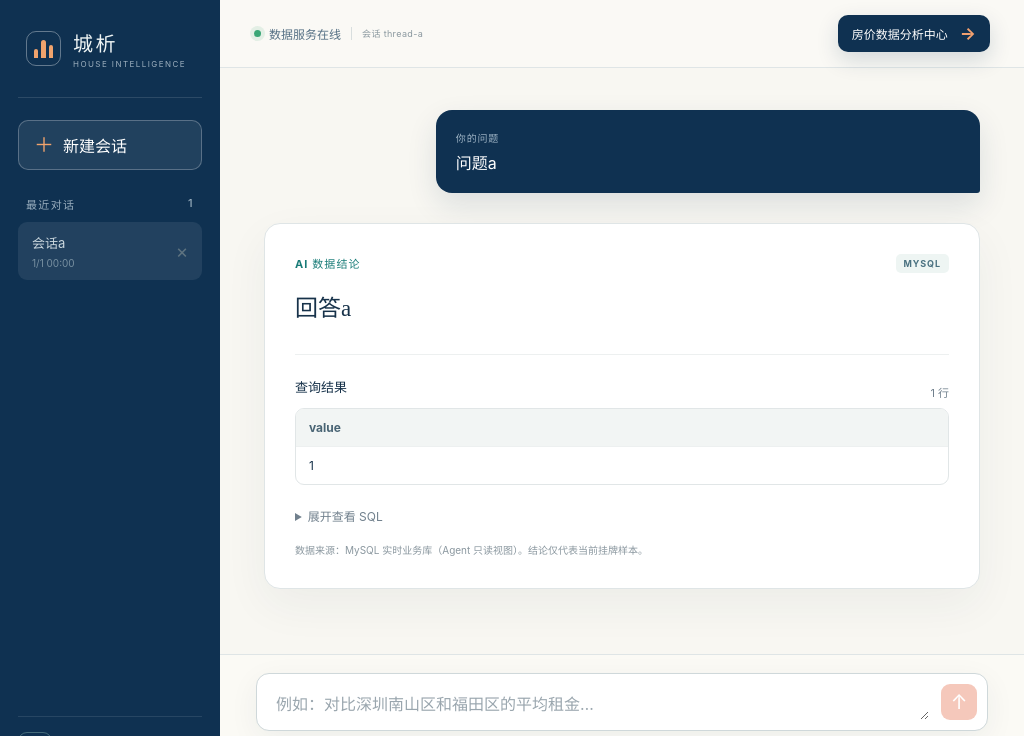
Scenario: App conversations › restores the active conversation thread after reload
The image size is (1024, 736).
In the text box with placeholder "例如：对比深圳南山区和福田区的平均租金…": (602, 705) [274,690,929,720], type "继续"
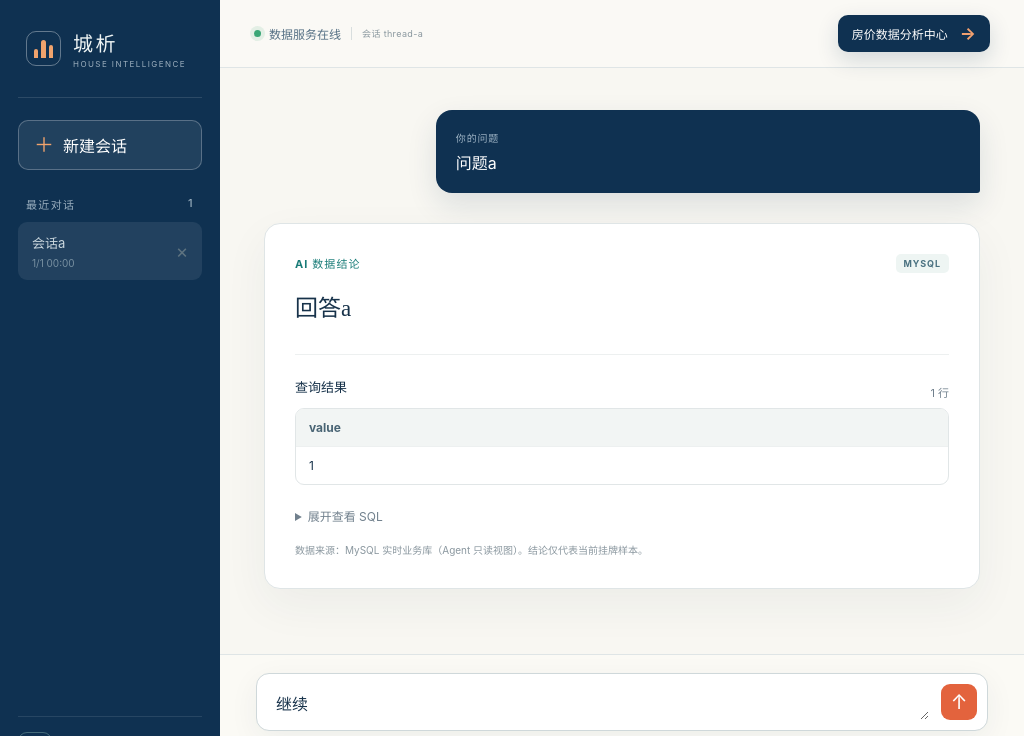
Click the button named "发送问题": click(959, 702) [941,684,977,720]
(page scrolled)
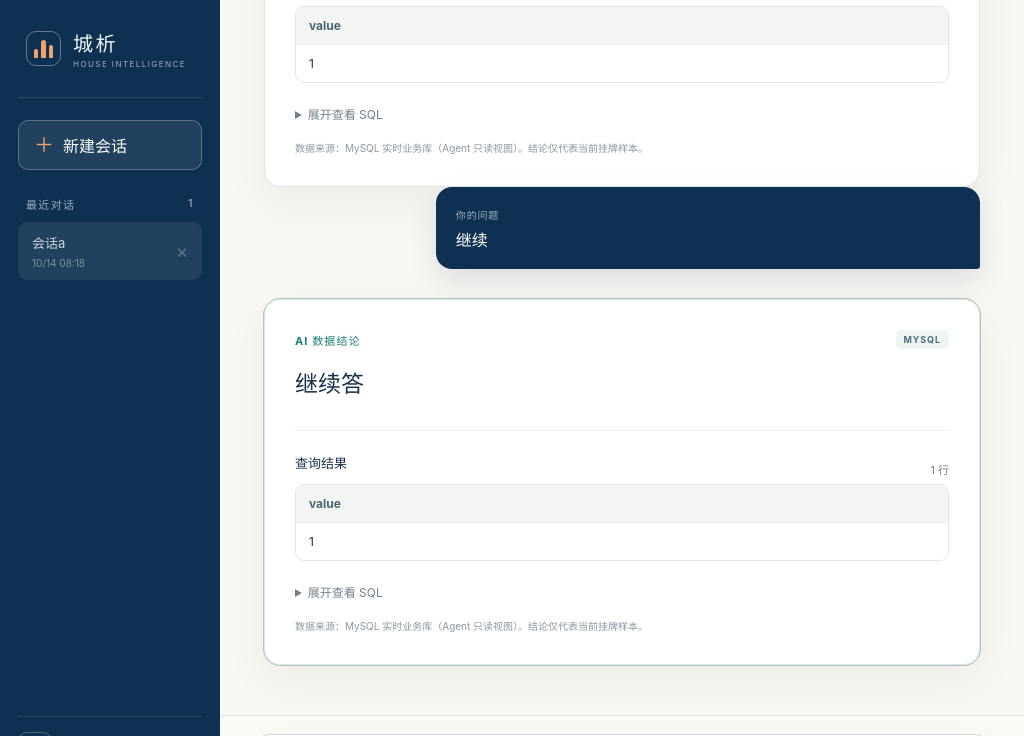
Check: the heading "继续答" is shown, box [295,372,364,397]
